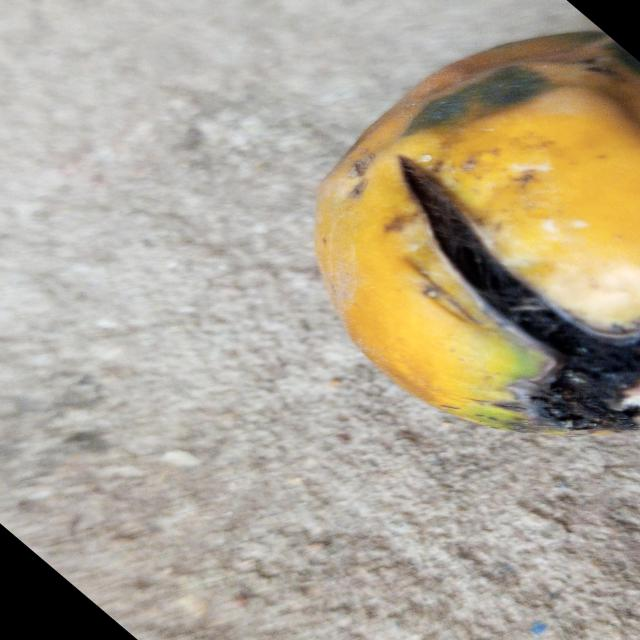damaged: (313, 34, 640, 431)
